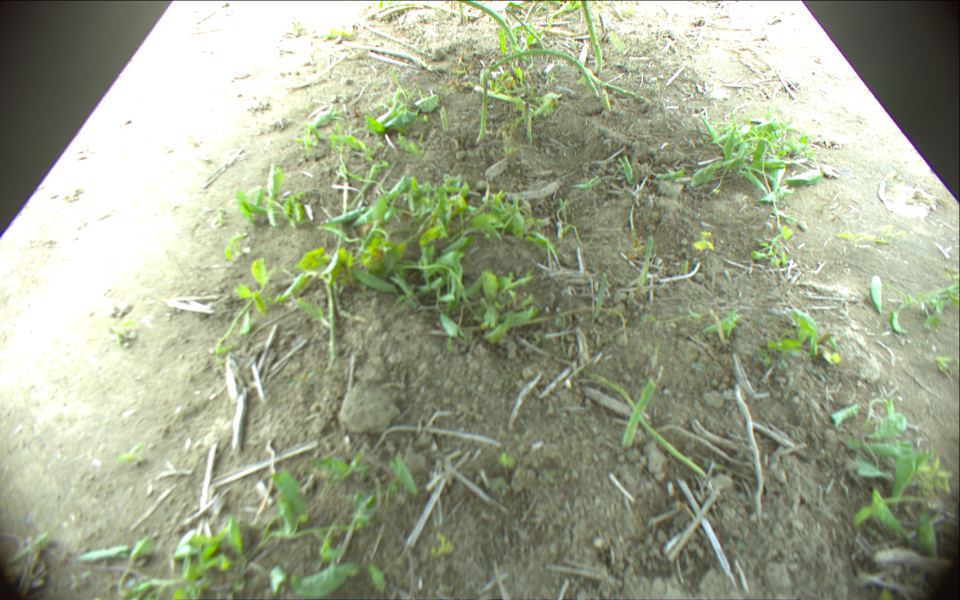aspa: (554, 356, 707, 480), (479, 48, 600, 97), (576, 42, 653, 106), (455, 1, 519, 53), (355, 22, 436, 61), (327, 43, 433, 71), (475, 84, 562, 114), (621, 378, 657, 448), (365, 4, 476, 21), (504, 6, 545, 50), (580, 1, 602, 77), (478, 68, 490, 142), (522, 100, 534, 137), (438, 104, 451, 132), (602, 88, 611, 108)
